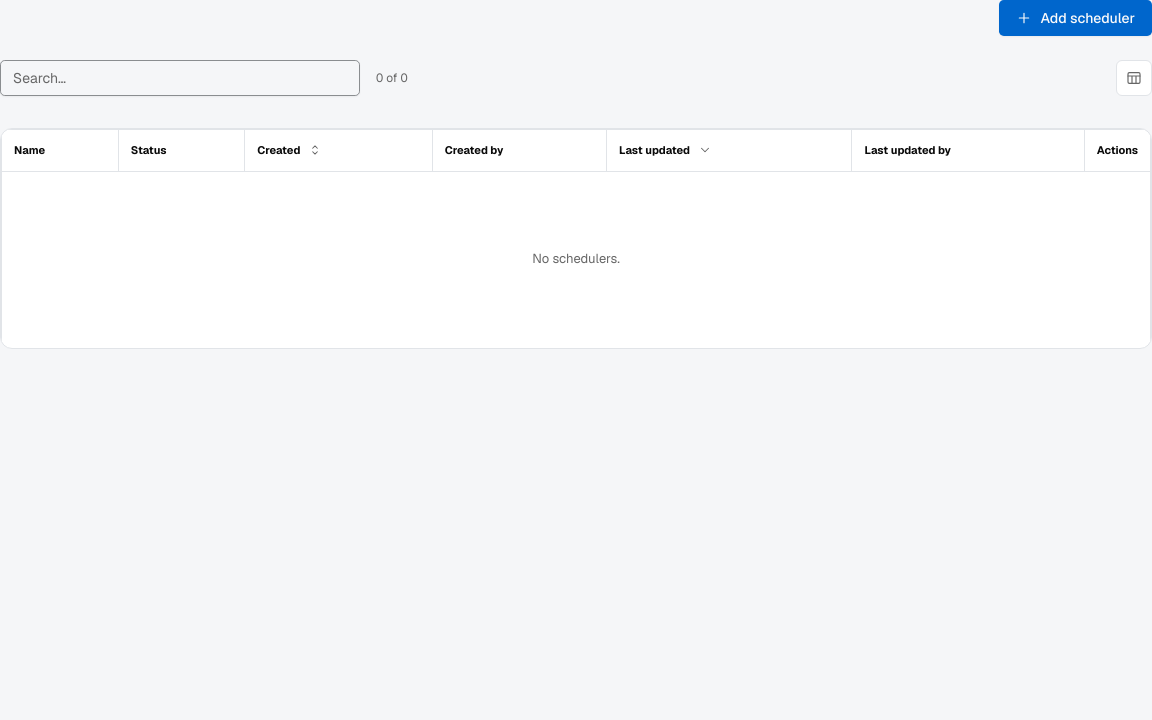
Test: catalog categories › keeps the public image form free of an explicit Harbor selection
Click the button "Add scheduler" at (1076, 18), box [1000,0,1151,36]
(page scrolled)
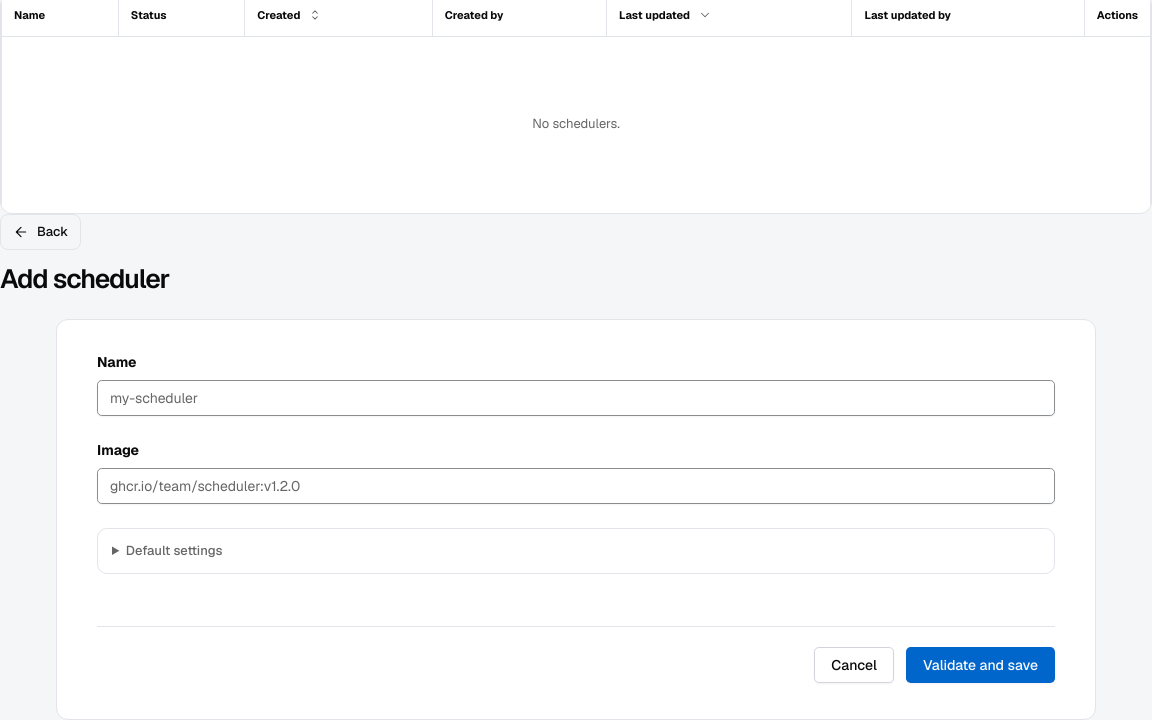
Check: the field labelled "Name" is shown, box [97,380,1055,416]
